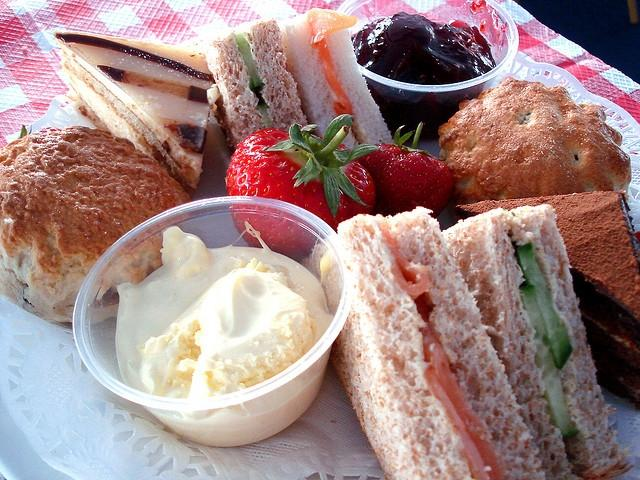cucumber: (518, 280, 580, 439), (515, 244, 573, 368), (230, 31, 266, 90), (258, 103, 273, 128)
strawberry: (226, 114, 382, 234), (359, 123, 456, 218)
